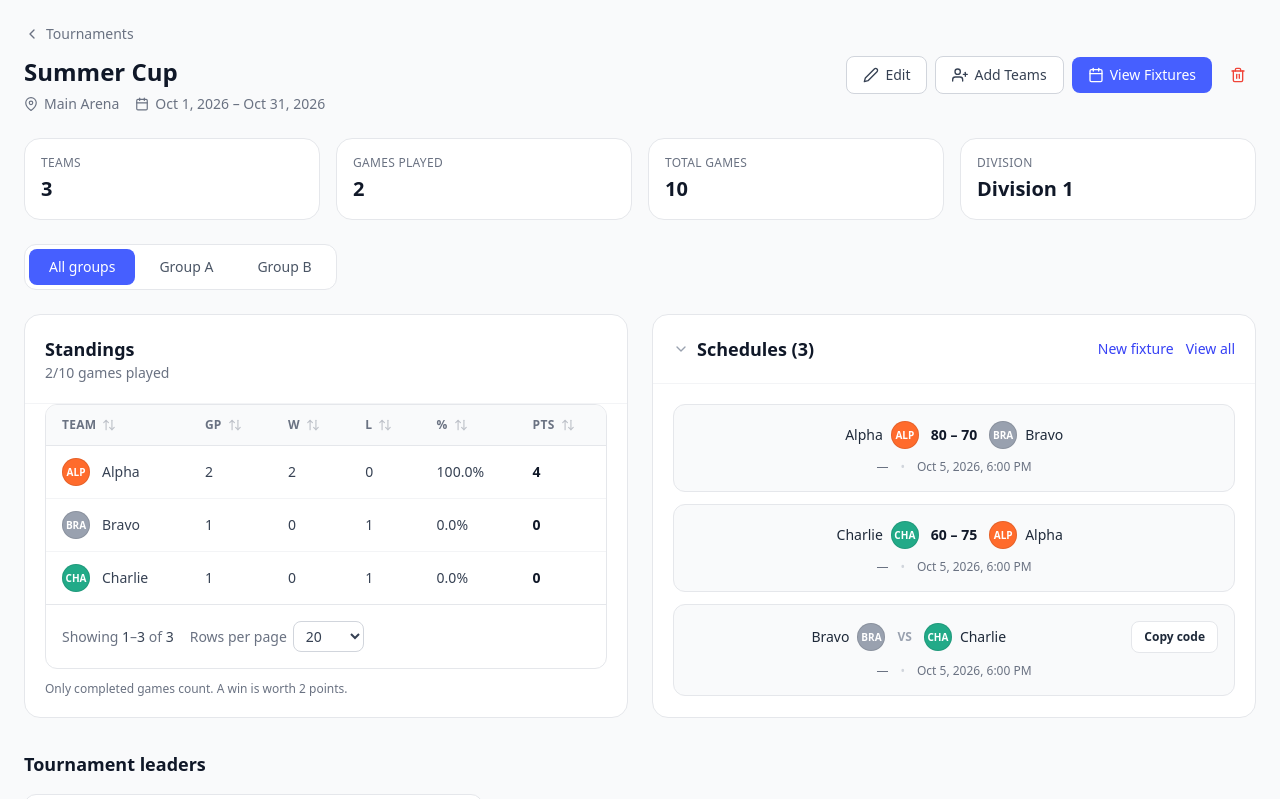
Test case: Tournament detail: standings and its group tabs › actually filters the standings by group, which the old tabs never did
Expected: the text "Alpha" in the row of "100.0%" is shown, left=102, top=462, right=140, bottom=481
Click the button "Group B". click: click(284, 267)
box: left=237, top=249, right=332, bottom=285
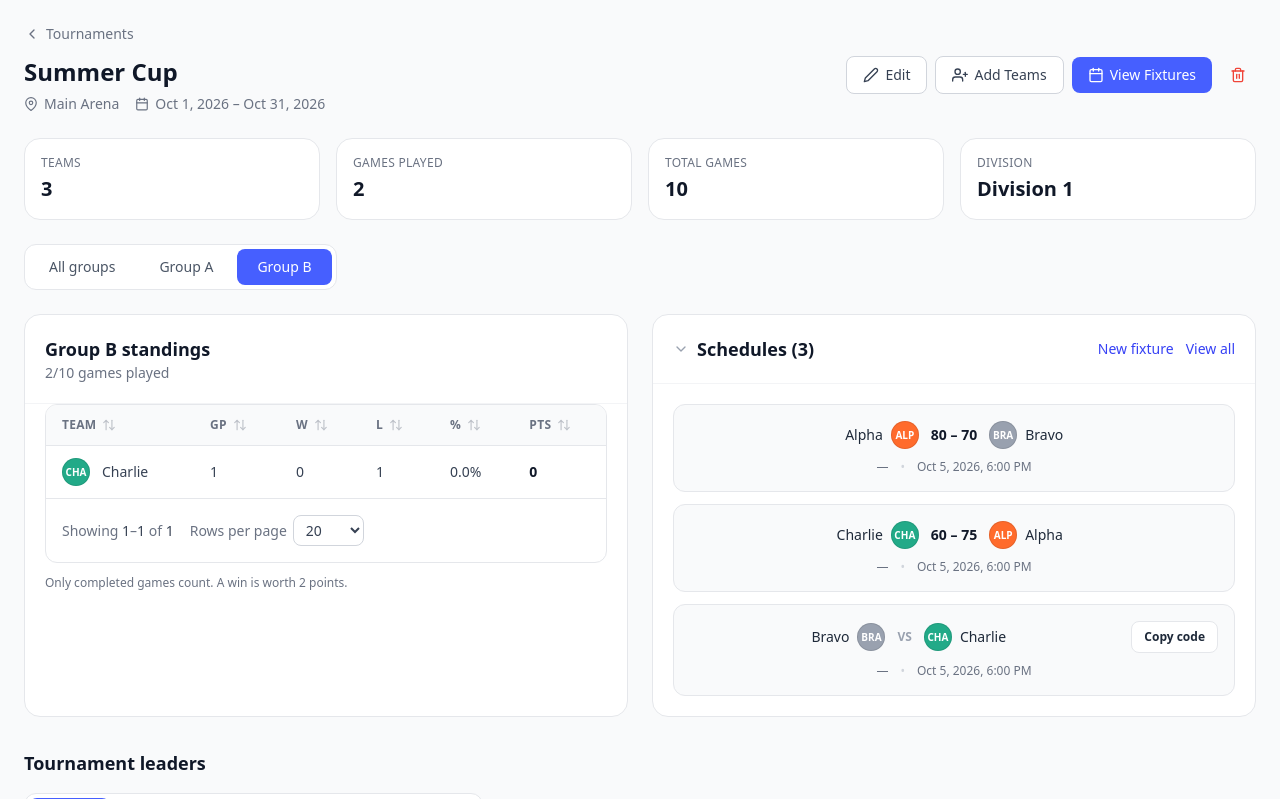
Expected: the text "Charlie" in the row of "0.0%" is shown, left=102, top=462, right=148, bottom=481
Expected: the heading "Group B standings" is shown, left=45, top=337, right=210, bottom=361
